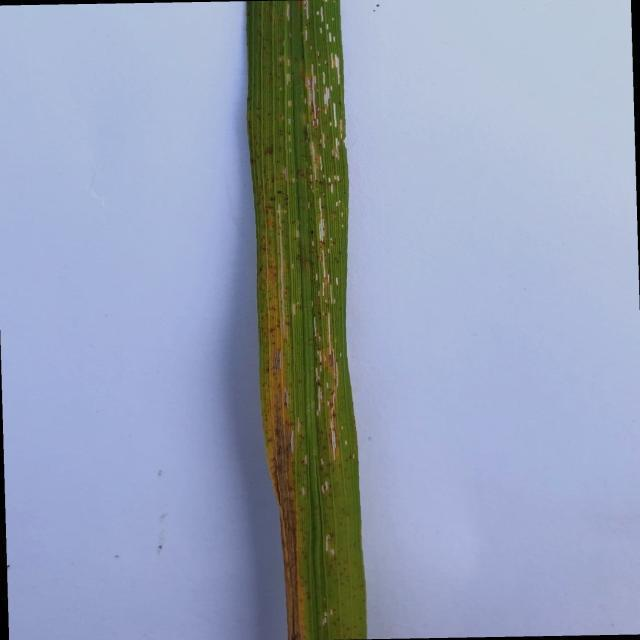Rice Tungro: (253, 193, 312, 640)
